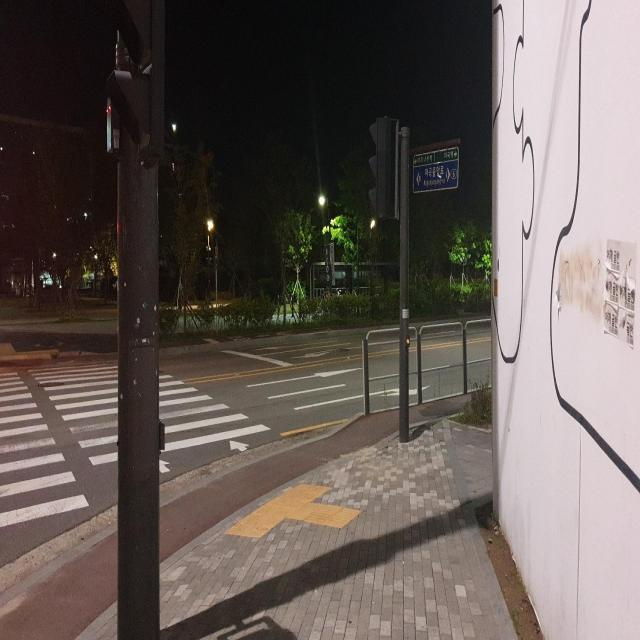횡단보도: (0, 359, 272, 530)
